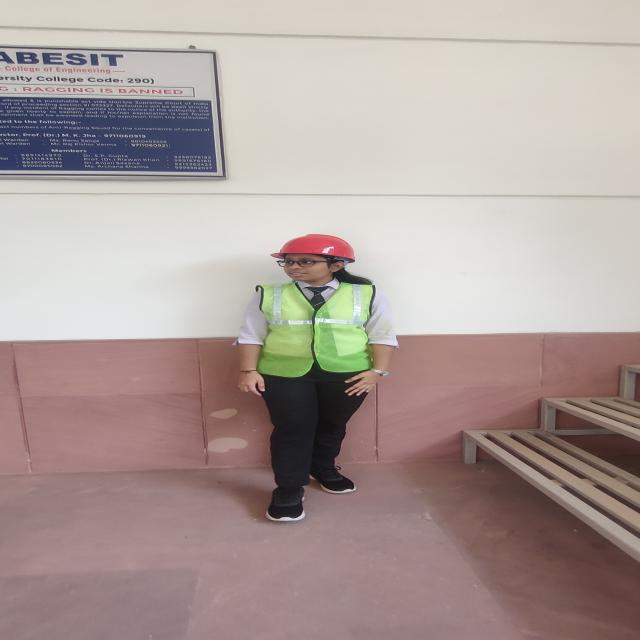safe: (238, 233, 398, 521)
